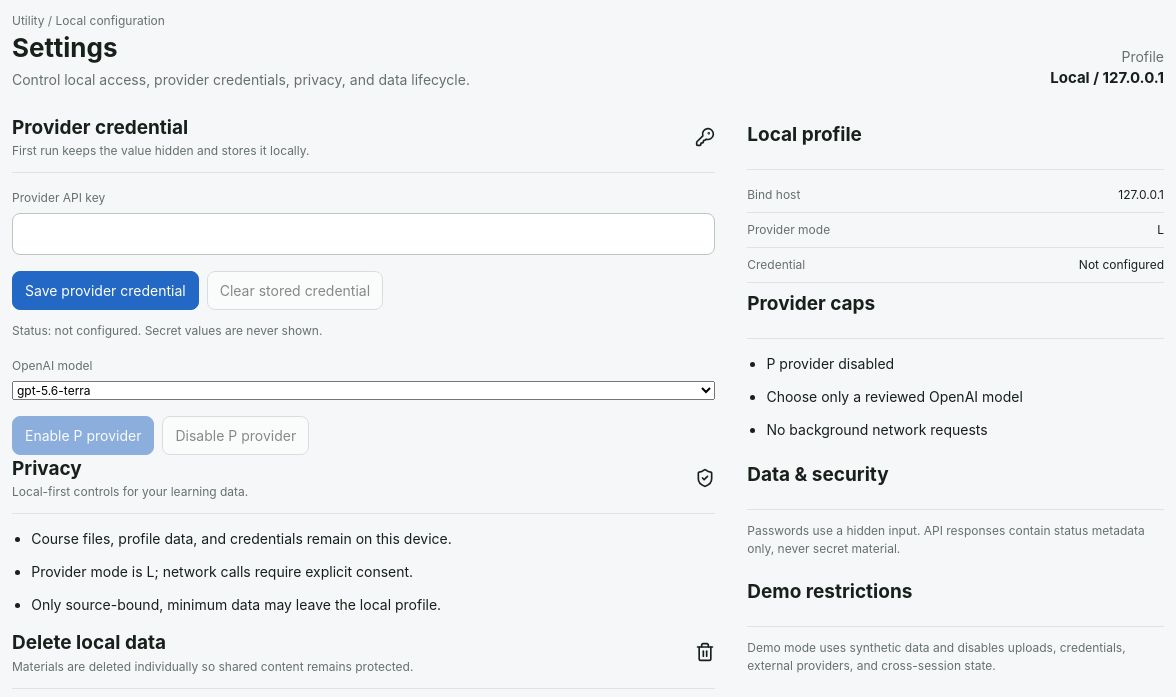
Test: SettingsView › fails closed when a credential mutation returns malformed status metadata
This screenshot has width=1176, height=697.
Step 1. Type "sk-live-secret" into the password field labelled "Provider API key" → (364, 234), box left=12, top=213, right=715, bottom=255
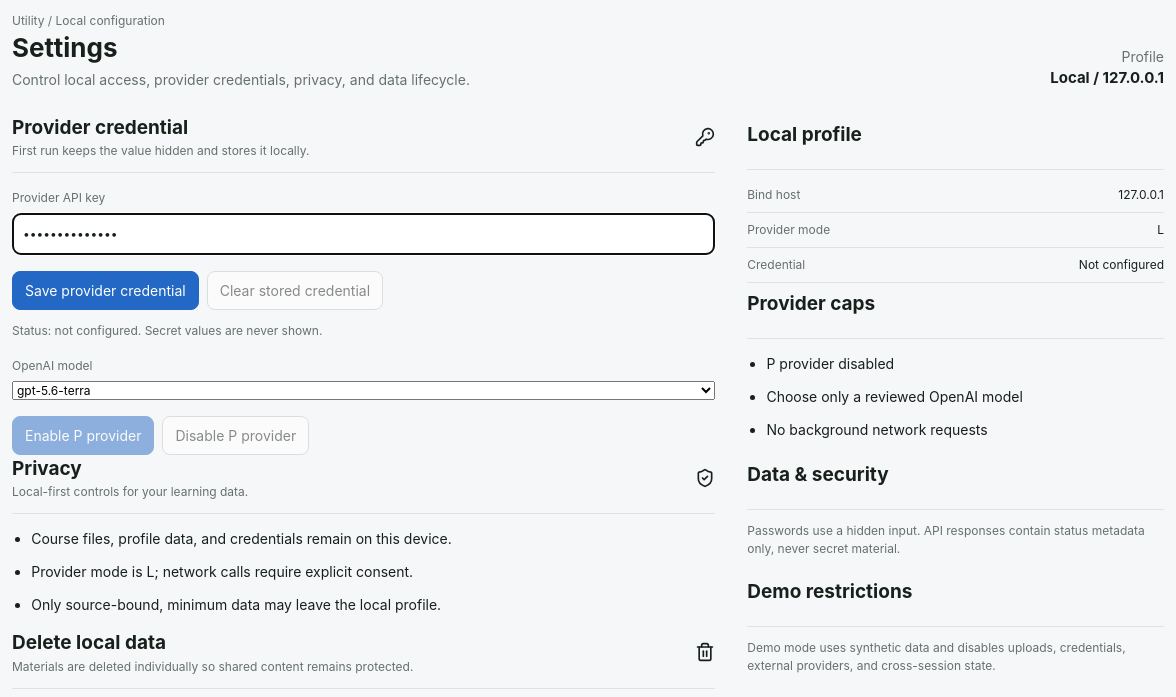
Step 2. Click the button "Save provider credential" → (105, 290), box left=12, top=271, right=199, bottom=310
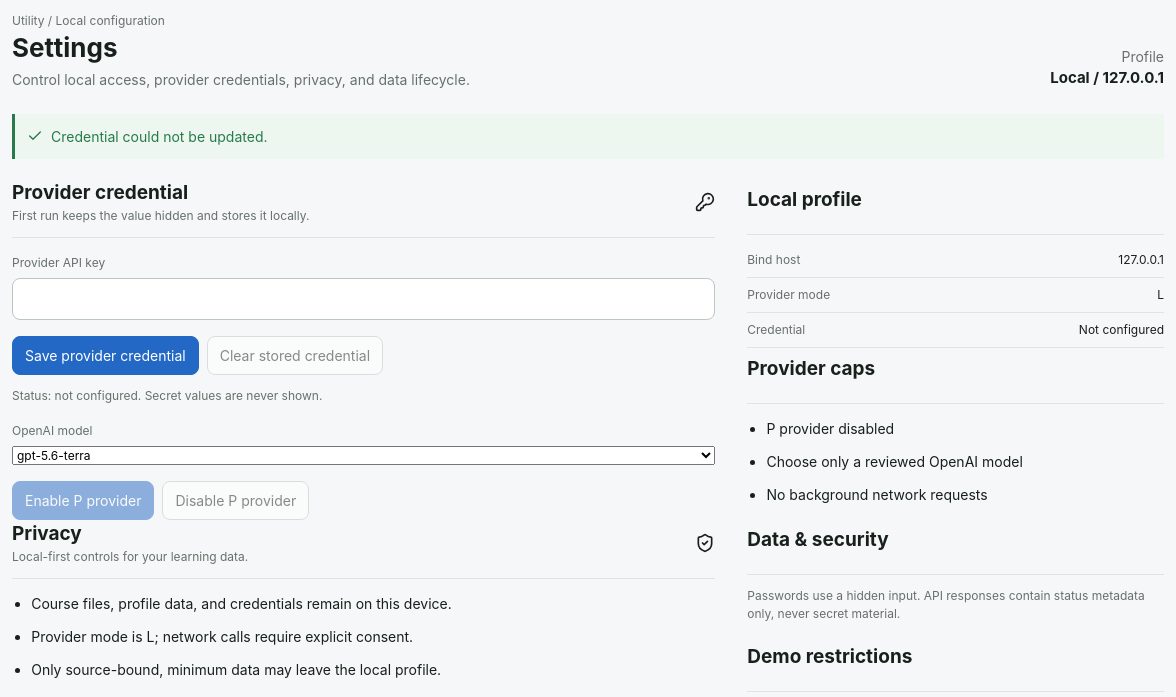
Expected: the text "Status: not configured. Secret values are never shown." is shown, left=12, top=388, right=322, bottom=403
Now the text "Credential could not be updated." is shown, box left=12, top=114, right=1164, bottom=158
